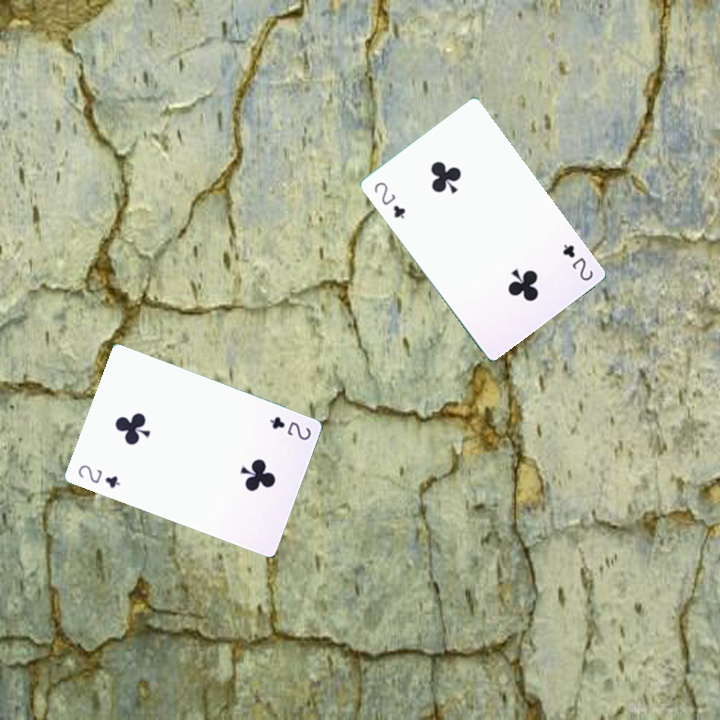2c: (558, 240, 596, 284), (370, 178, 408, 221), (265, 412, 314, 443), (74, 461, 123, 491)
